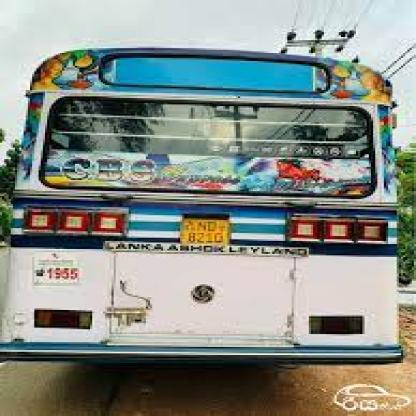bus back: (0, 43, 400, 382)
number plate: (182, 219, 229, 245)
